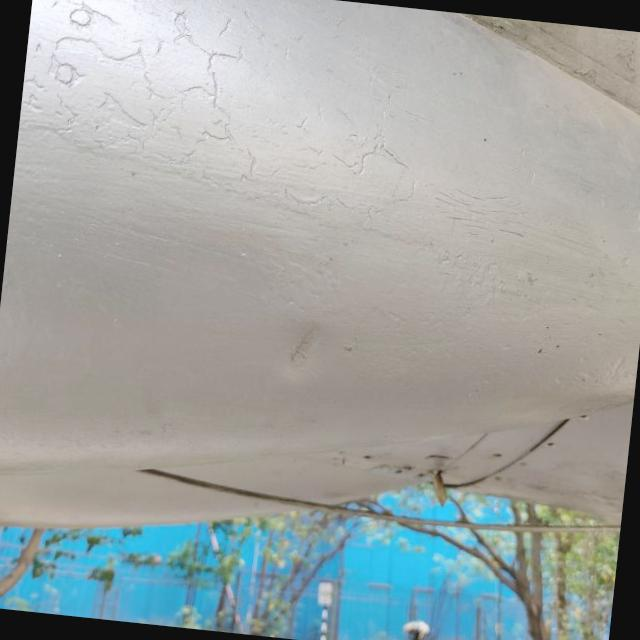dent: (258, 300, 346, 388)
